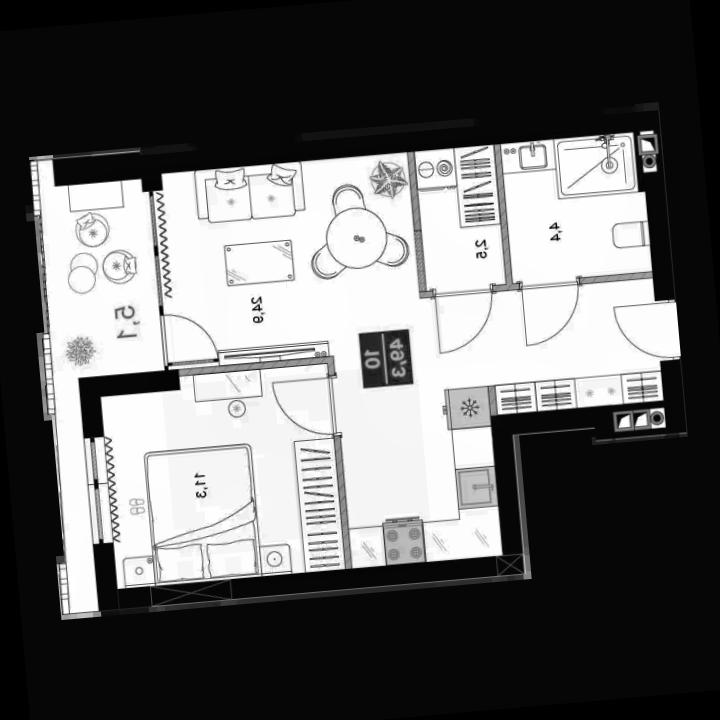door: (515, 270, 588, 348), (428, 280, 502, 355), (270, 370, 345, 442), (610, 296, 686, 366), (156, 306, 220, 368)
window: (145, 191, 169, 249), (149, 250, 173, 308), (88, 485, 110, 544), (83, 438, 106, 482)
